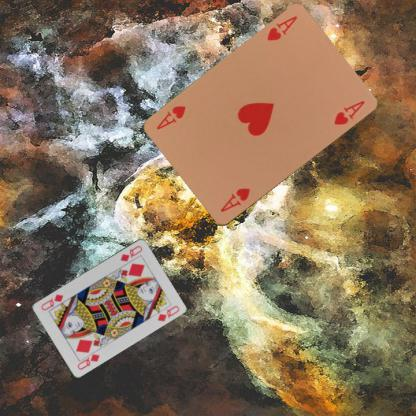Ah: (264, 13, 299, 43), (218, 185, 252, 214)
Qd: (75, 347, 101, 371), (118, 243, 143, 263)
